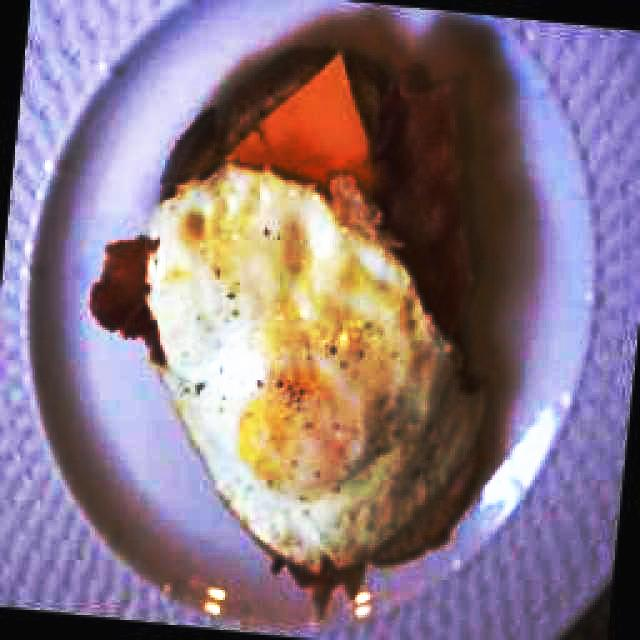fried_eggs: (144, 161, 485, 569)
